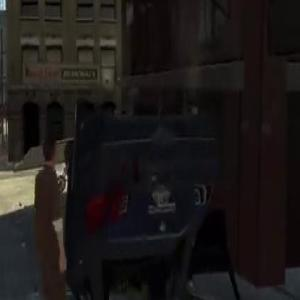serious: (58, 96, 235, 300)
